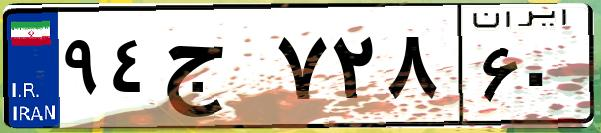0: (525, 38, 570, 115)
2: (330, 28, 385, 110)
4: (110, 28, 158, 98)
6: (475, 38, 525, 113)
7: (270, 28, 330, 110)
8: (385, 28, 445, 110)
9: (57, 26, 110, 100)
ج: (158, 20, 270, 120)
